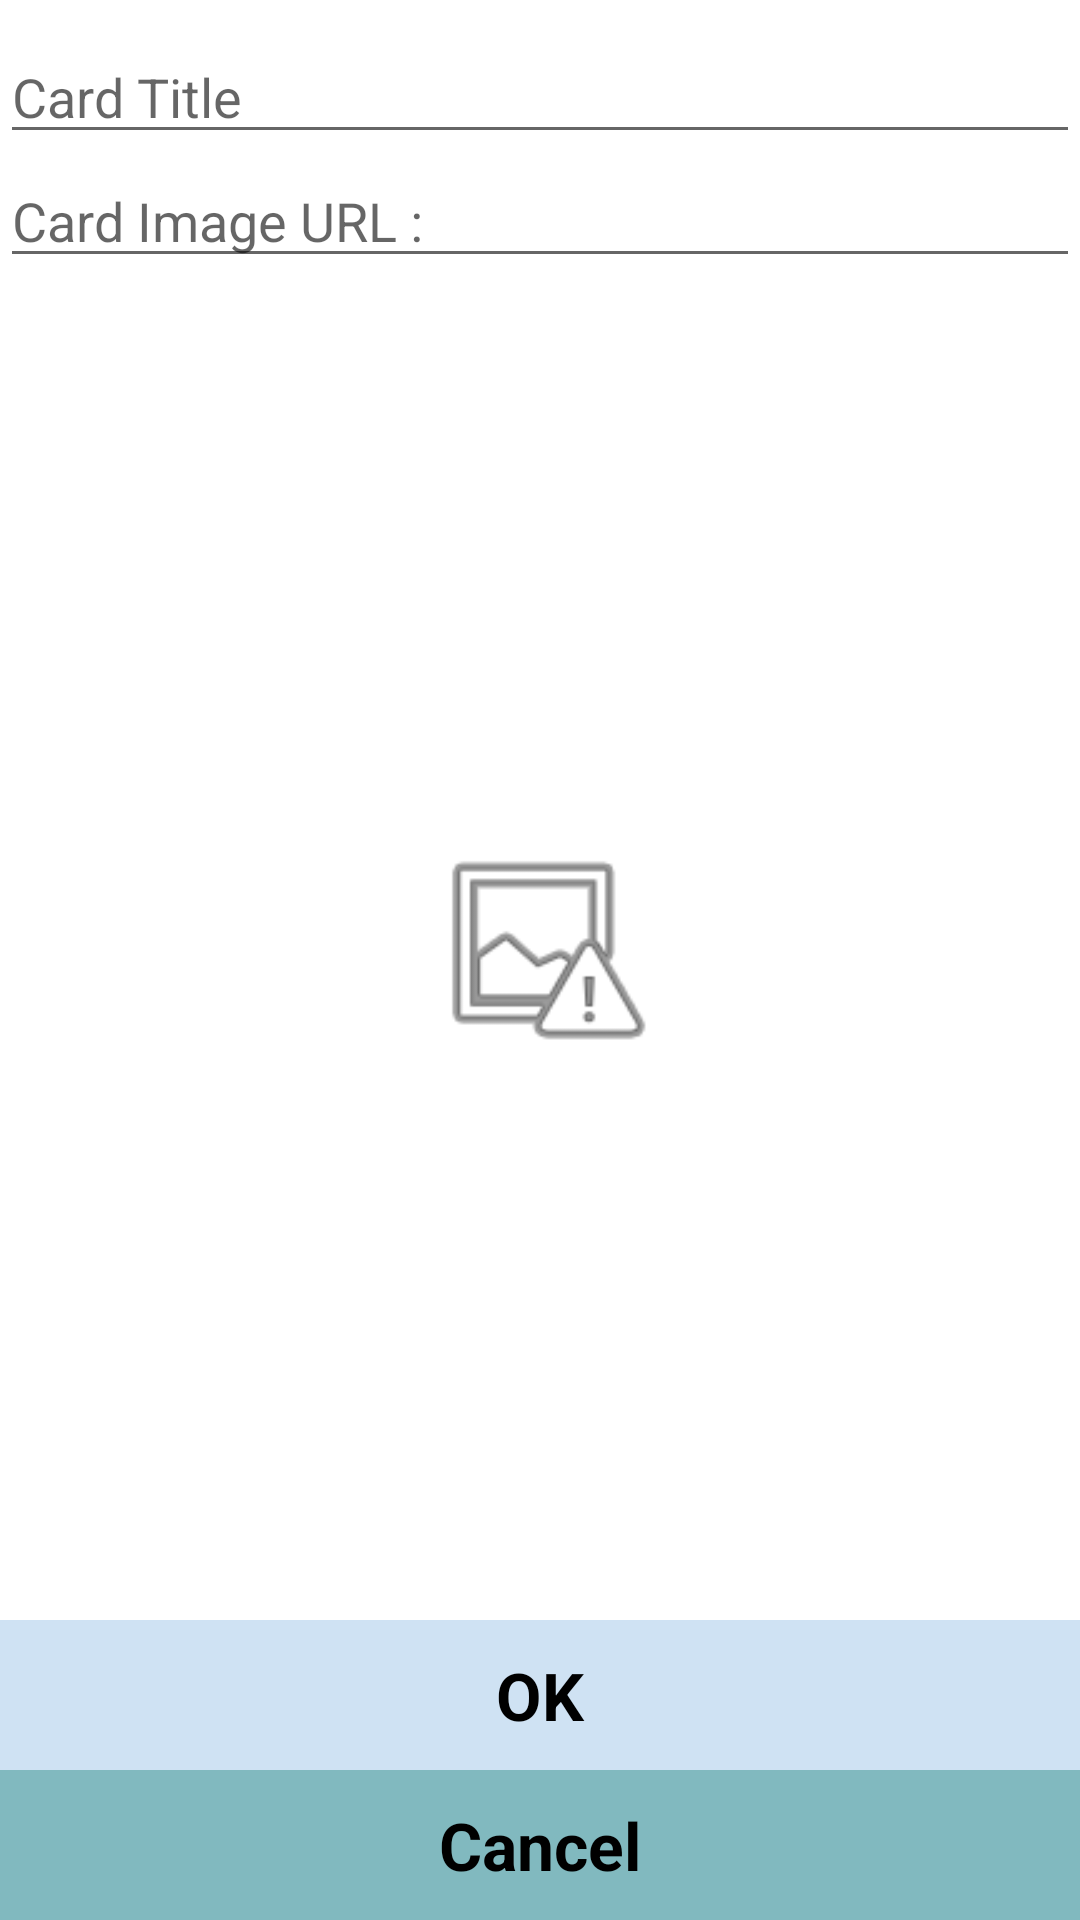

Screen size 1080w x 1920h. Icon name, then its box in pixels as [x1,y1,x2,y2]:
report: [452,862,645,1039]
